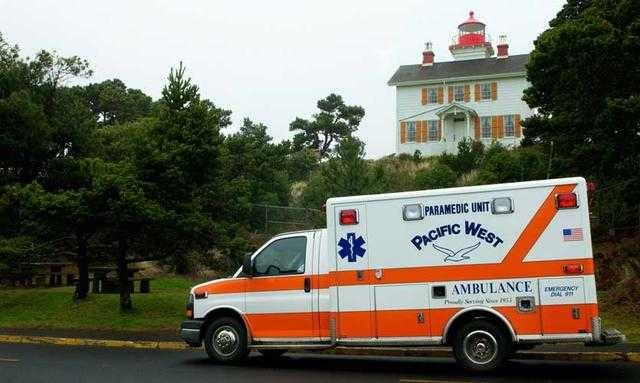car: (179, 175, 603, 372)
